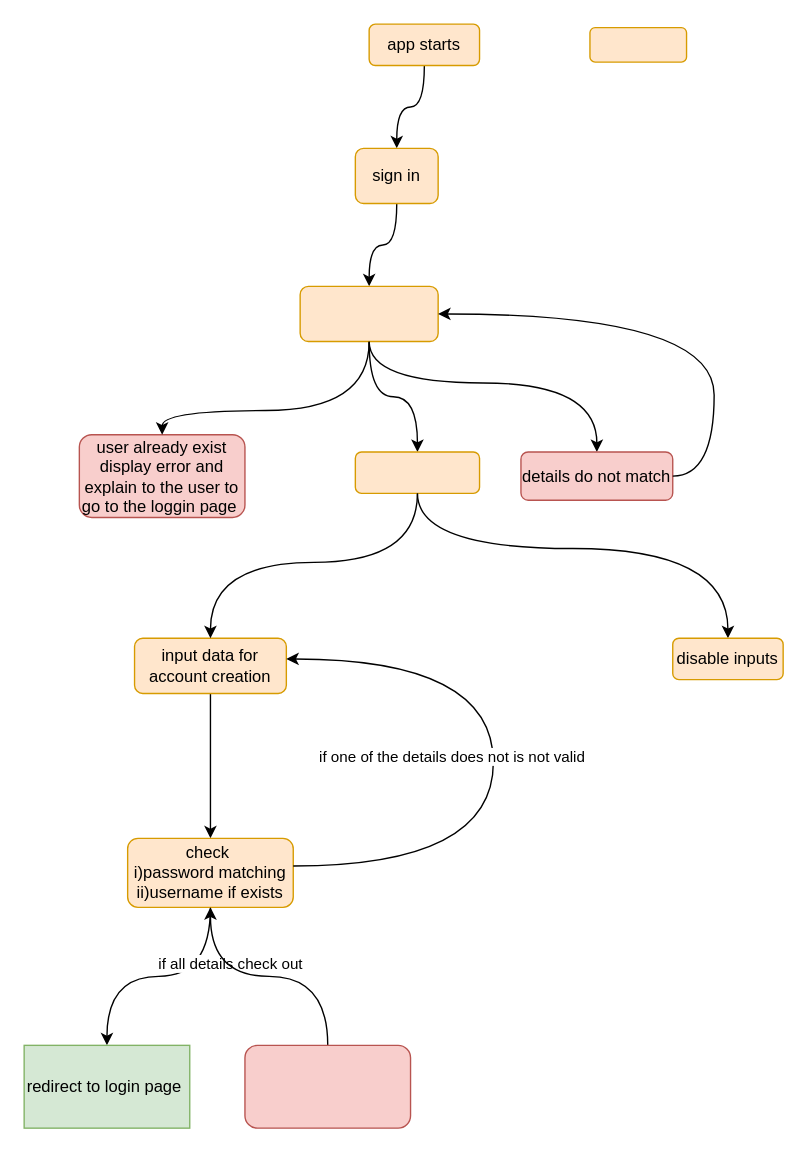
This 807x1152 diagram has some shape labels left out. Here are the shapes that lost their labels. From the top down, the centre of each, then its label:
(x=638, y=44): log in
(x=368, y=313): get data used for billing
(x=417, y=472): matched details
(x=327, y=1086): delete details in server for account creation
